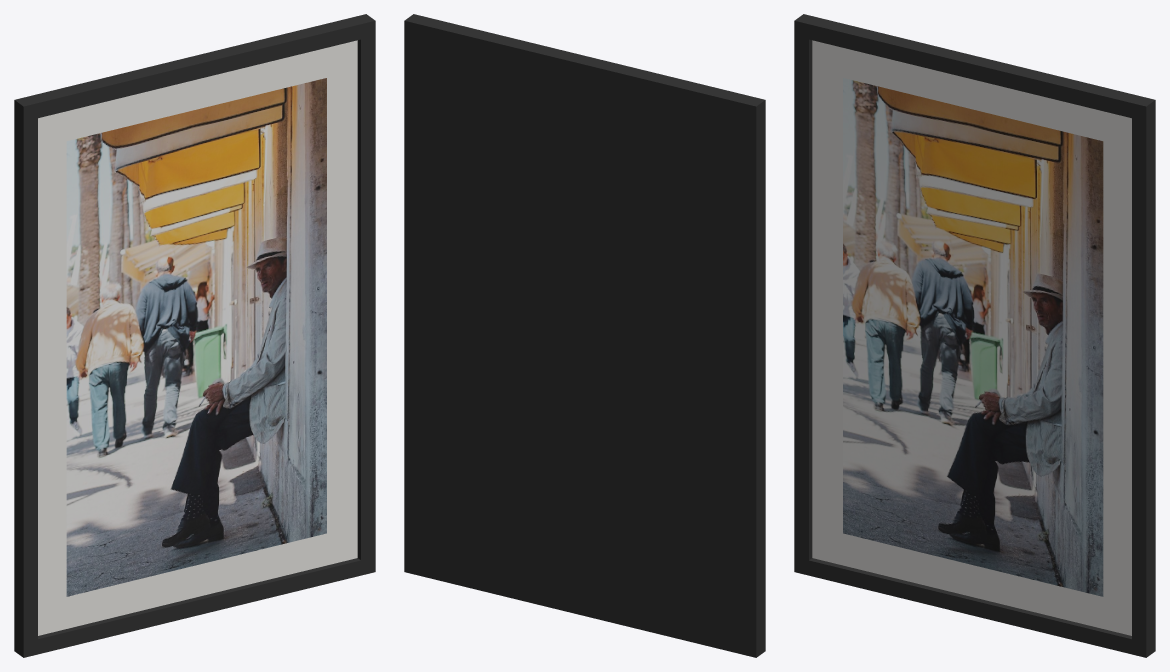
Rendered from markiserna-60.gltf.
The picture shows the model from 3 angles, left to right: view 1: azimuth 30°, elevation 25°; view 2: azimuth 150°, elevation 25°; view 3: azimuth 330°, elevation 25°; orthographic projection.
Parts seen in each view (by area): view 1: tavla; view 2: tavla; view 3: tavla.
Boxes of the visible parts, left/top/right/bottom form: tavla: left=14, top=14, right=375, bottom=657; tavla: left=404, top=14, right=765, bottom=657; tavla: left=794, top=14, right=1155, bottom=657.
Size of the model in its own units: 0.485 by 0.7261 by 0.022.
3 materials, 1 textured.
